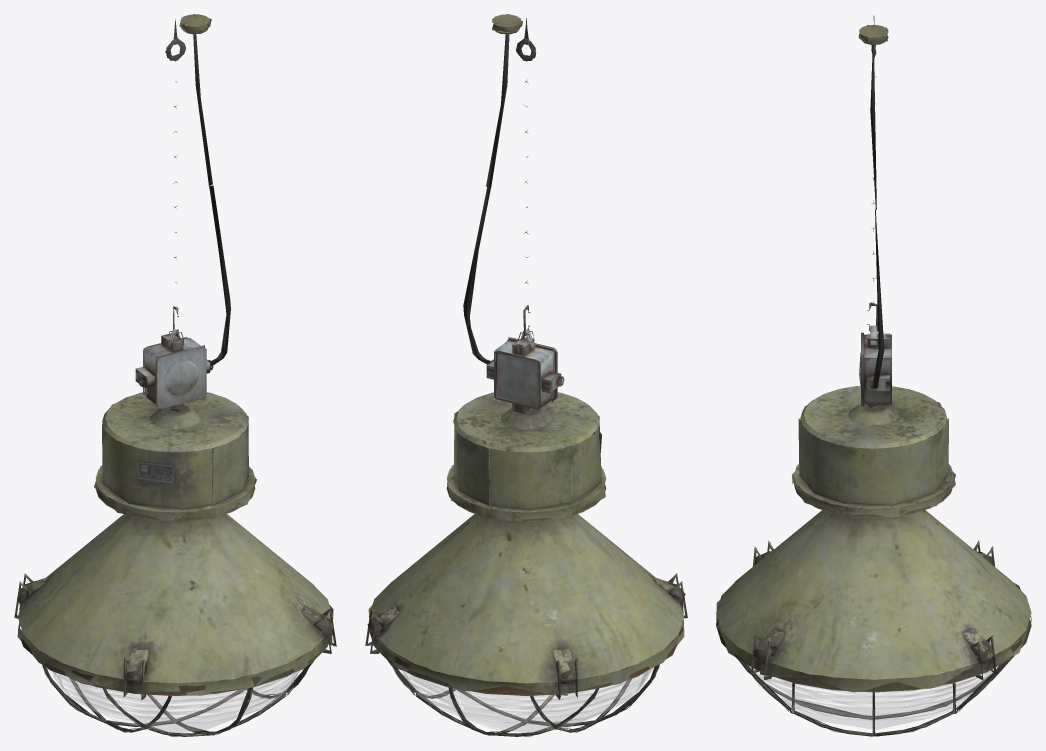
Rendered from lamp_hanging.glb.
3 views of the same model, side by side, from view 1: azimuth 30°, elevation 25°; view 2: azimuth 150°, elevation 25°; view 3: azimuth 270°, elevation 25° (orthographic).
Visible parts, largest first — view 1: lamp_hanging; view 2: lamp_hanging; view 3: lamp_hanging.
Part boxes in pixels (x1,y1,x2,y2): lamp_hanging: (14,14,336,736); lamp_hanging: (365,14,687,736); lamp_hanging: (716,15,1031,736).
Bounding box in the file's own units: 0.5496 × 1.36 × 0.5501.
2 materials, 1 textured.
